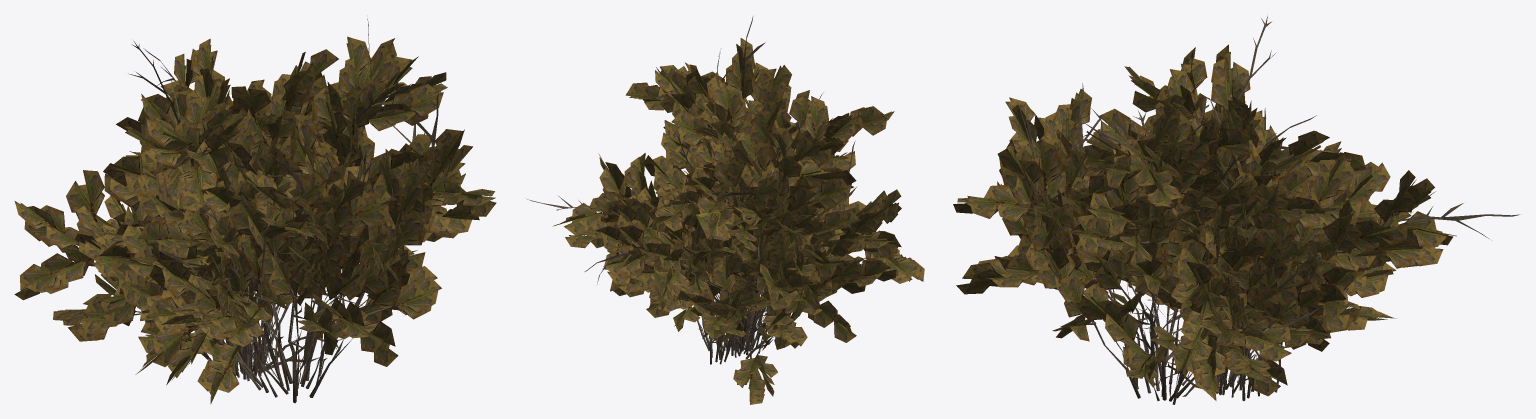
File: dry-scrub.glb
3 views of the same model, side by side, from view 1: azimuth 30°, elevation 25°; view 2: azimuth 150°, elevation 25°; view 3: azimuth 270°, elevation 25° (orthographic). The views are drawn at different scales.
Parts seen in each view (by area): view 1: dry-scrub_a, dry-scrub_b, dry-scrub_c, dry-scrub_d; view 2: dry-scrub_a, dry-scrub_b, dry-scrub_c, dry-scrub_d, dry-scrub_e; view 3: dry-scrub_a, dry-scrub_b, dry-scrub_d, dry-scrub_c.
Part boxes in pixels (x1=…): dry-scrub_a: x1=14, y1=18, x2=496, y2=404; dry-scrub_b: x1=53, y1=41, x2=437, y2=379; dry-scrub_c: x1=113, y1=124, x2=334, y2=375; dry-scrub_d: x1=168, y1=209, x2=299, y2=380; dry-scrub_a: x1=527, y1=16, x2=924, y2=349; dry-scrub_b: x1=594, y1=96, x2=859, y2=404; dry-scrub_c: x1=591, y1=116, x2=853, y2=362; dry-scrub_d: x1=643, y1=134, x2=834, y2=353; dry-scrub_e: x1=681, y1=231, x2=793, y2=364; dry-scrub_a: x1=953, y1=69, x2=1519, y2=404; dry-scrub_b: x1=1077, y1=16, x2=1396, y2=396; dry-scrub_d: x1=1132, y1=164, x2=1366, y2=395; dry-scrub_c: x1=1082, y1=94, x2=1396, y2=400.
Size of the model in its own units: 0.6908 by 0.5413 by 0.8432.
2 materials, 2 textured.
